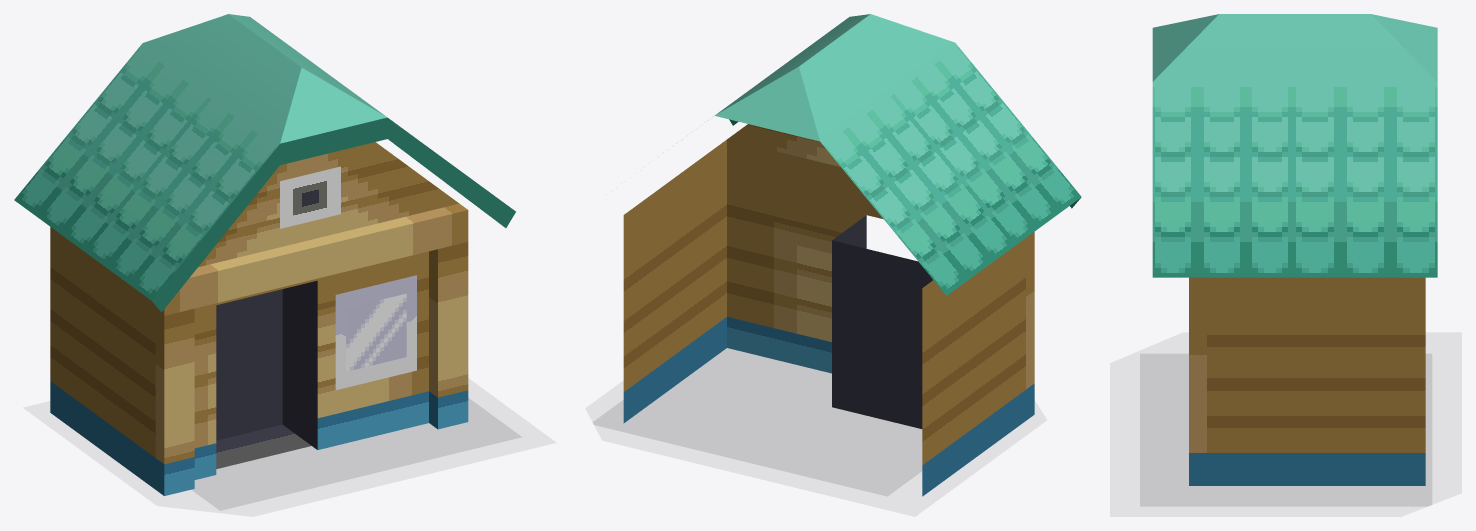
File: New Bark Town House.obj
3 renders of one model, left to right at view 1: azimuth 30°, elevation 25°; view 2: azimuth 150°, elevation 25°; view 3: azimuth 270°, elevation 25°, orthographic. The views are drawn at different scales.
Parts seen in each view (by area): view 1: polygon2, polygon1, polygon0; view 2: polygon2, polygon1; view 3: polygon2, polygon1.
Boxes of the visible parts, bbox=[...] form: polygon2: bbox=[14, 14, 515, 495]; polygon1: bbox=[192, 398, 520, 510]; polygon0: bbox=[346, 293, 406, 371]; polygon2: bbox=[623, 14, 1081, 496]; polygon1: bbox=[593, 348, 921, 496]; polygon2: bbox=[1152, 14, 1437, 485]; polygon1: bbox=[1140, 354, 1431, 506].
Size of the model in its own units: 76 by 72.85 by 58.
